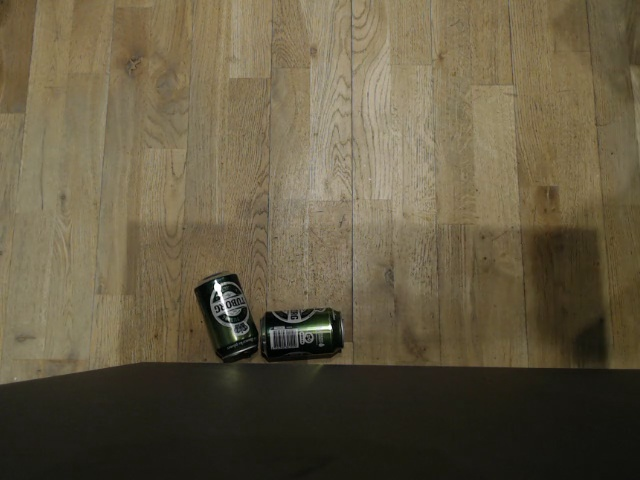beer: (195, 269, 258, 362), (258, 304, 344, 362)
